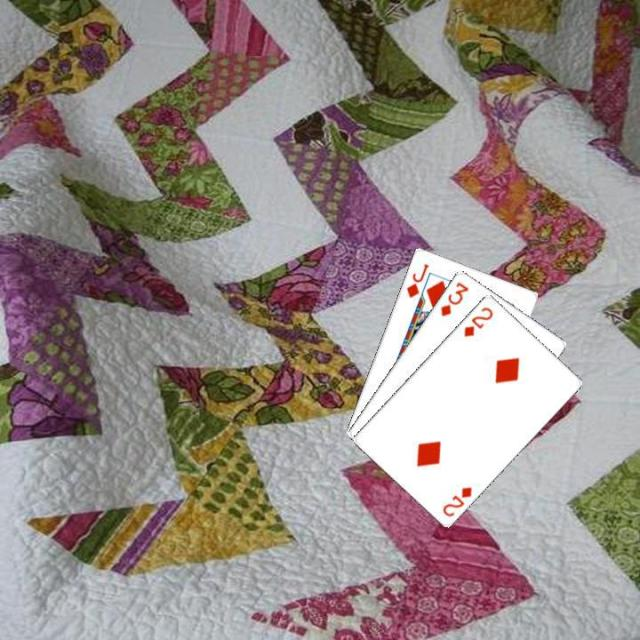2D: (460, 303, 495, 339), (438, 483, 474, 518)
3D: (436, 278, 471, 318)
JD: (402, 260, 430, 300)
